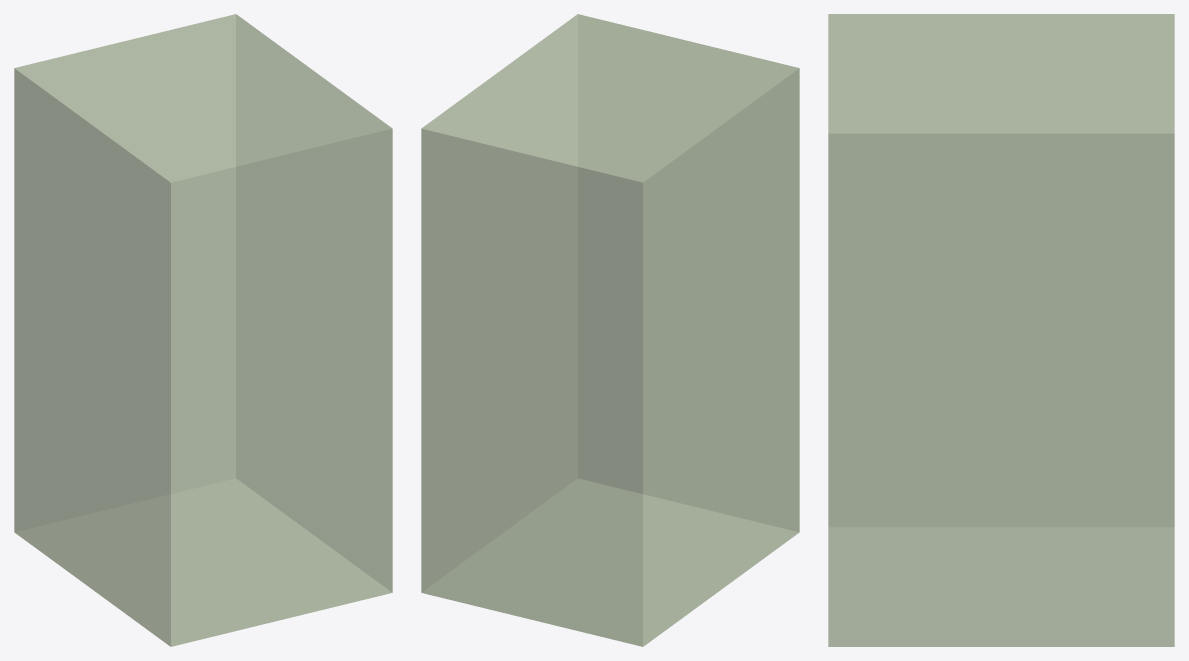
File: blockout.glb
3 renders of one model, left to right at view 1: azimuth 30°, elevation 25°; view 2: azimuth 150°, elevation 25°; view 3: azimuth 270°, elevation 25°, orthographic. The views are drawn at different scales.
Visible parts, largest first — view 1: U21_ENVELOPE_NOT_FINAL_MESH; view 2: U21_ENVELOPE_NOT_FINAL_MESH; view 3: U21_ENVELOPE_NOT_FINAL_MESH.
Part boxes in pixels (box(x1,y1,x2,y2)): U21_ENVELOPE_NOT_FINAL_MESH: box(14, 14, 392, 646); U21_ENVELOPE_NOT_FINAL_MESH: box(421, 14, 799, 646); U21_ENVELOPE_NOT_FINAL_MESH: box(828, 14, 1174, 646).
Bounding box in the file's own units: 0.9 × 1.8 × 1.1.
